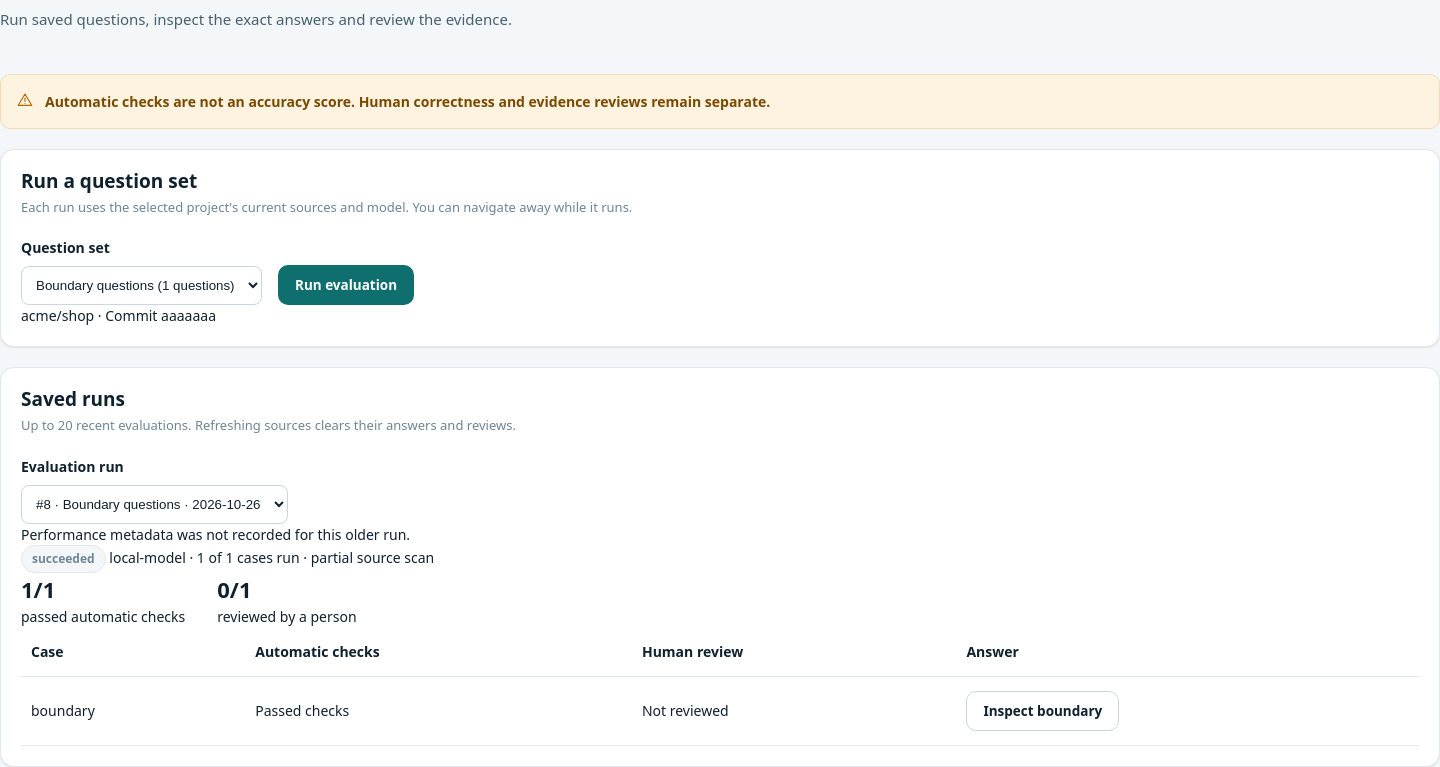
Test case: shows failed review writes without reporting a saved review
The image size is (1440, 767).
Step 1. Click the button "Inspect boundary" → [1043, 711], box [966,690,1119,731]
(page scrolled)
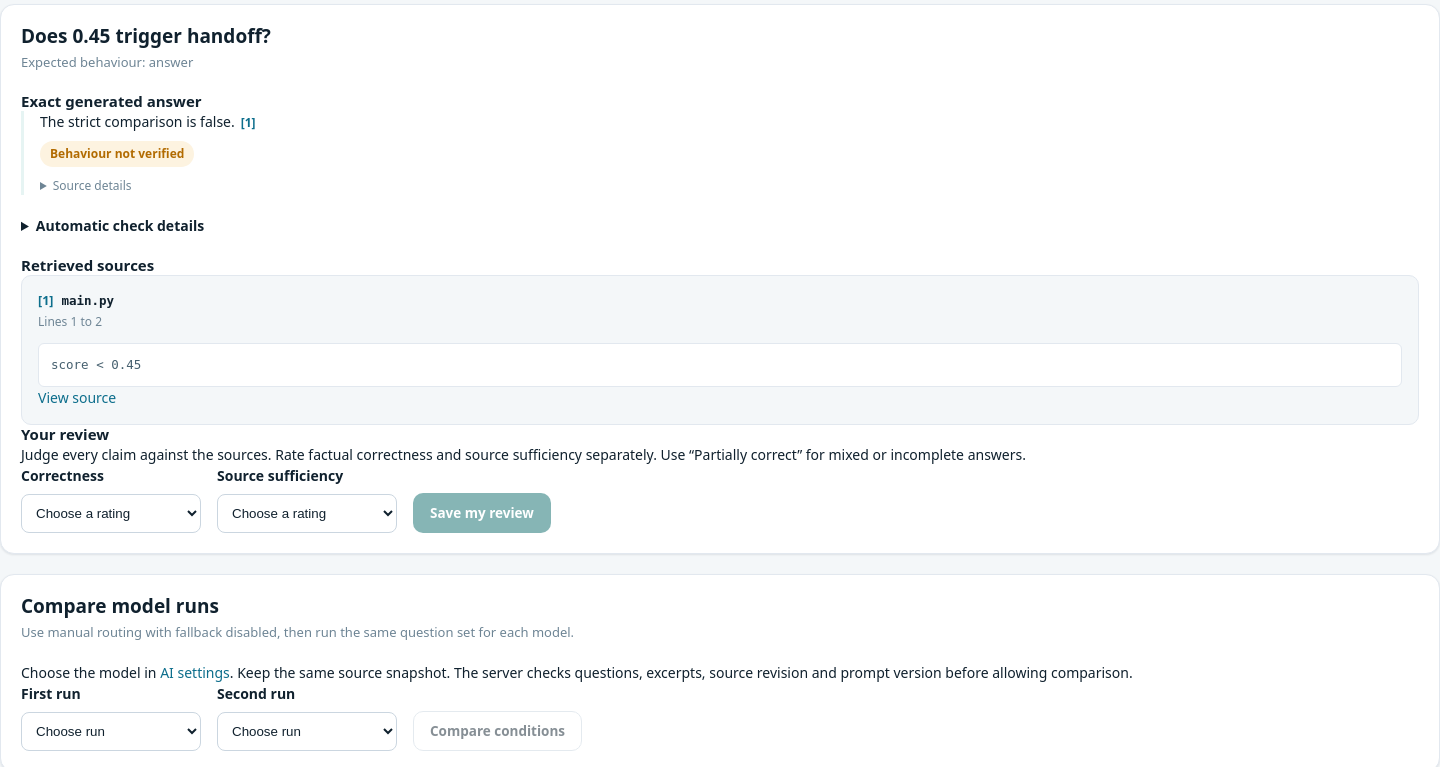
Step 2. Select "Correct" in the dropdown labelled "Correctness" → [111, 514], box [21,494,201,533]
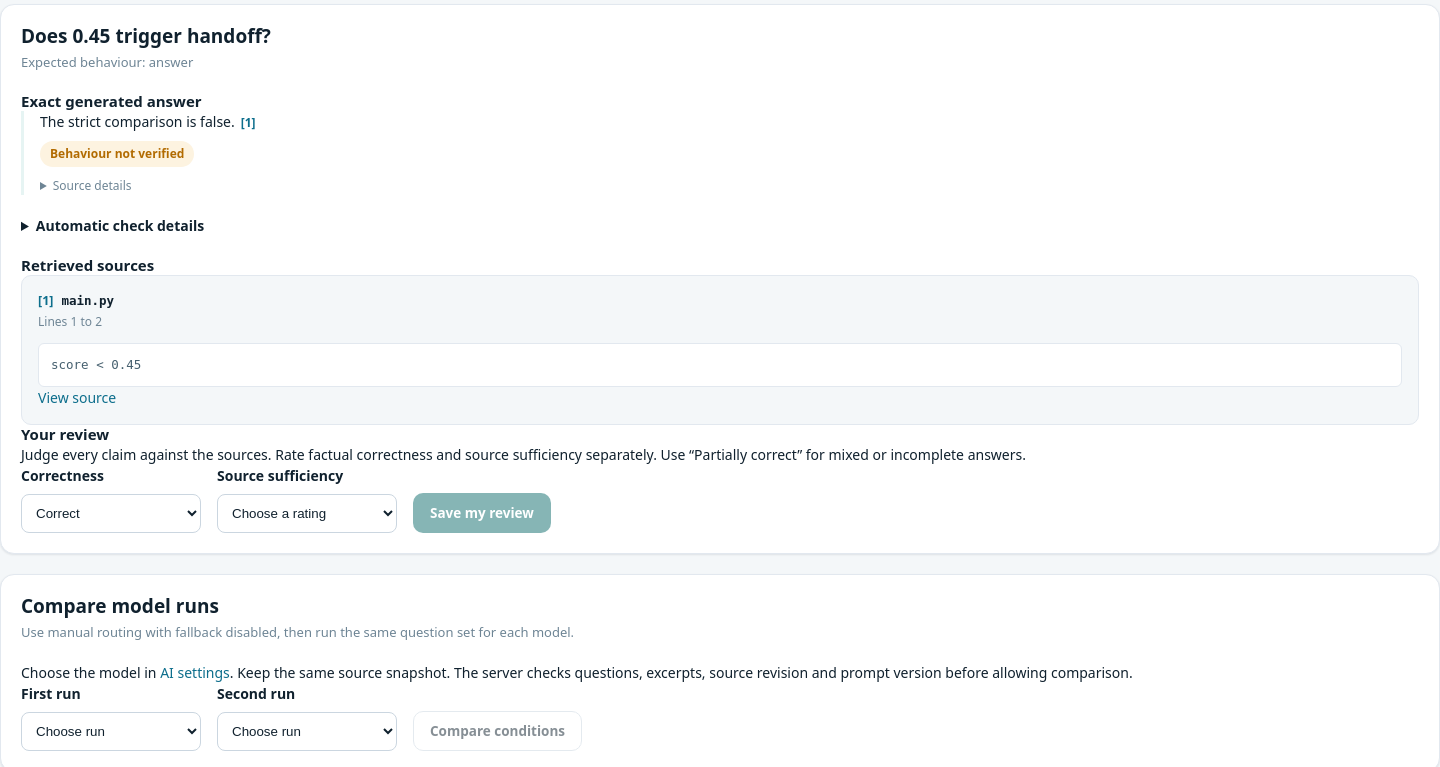
Step 3. Select "Sufficient" in the dropdown labelled "Source sufficiency" → [307, 514], box [217,494,397,533]
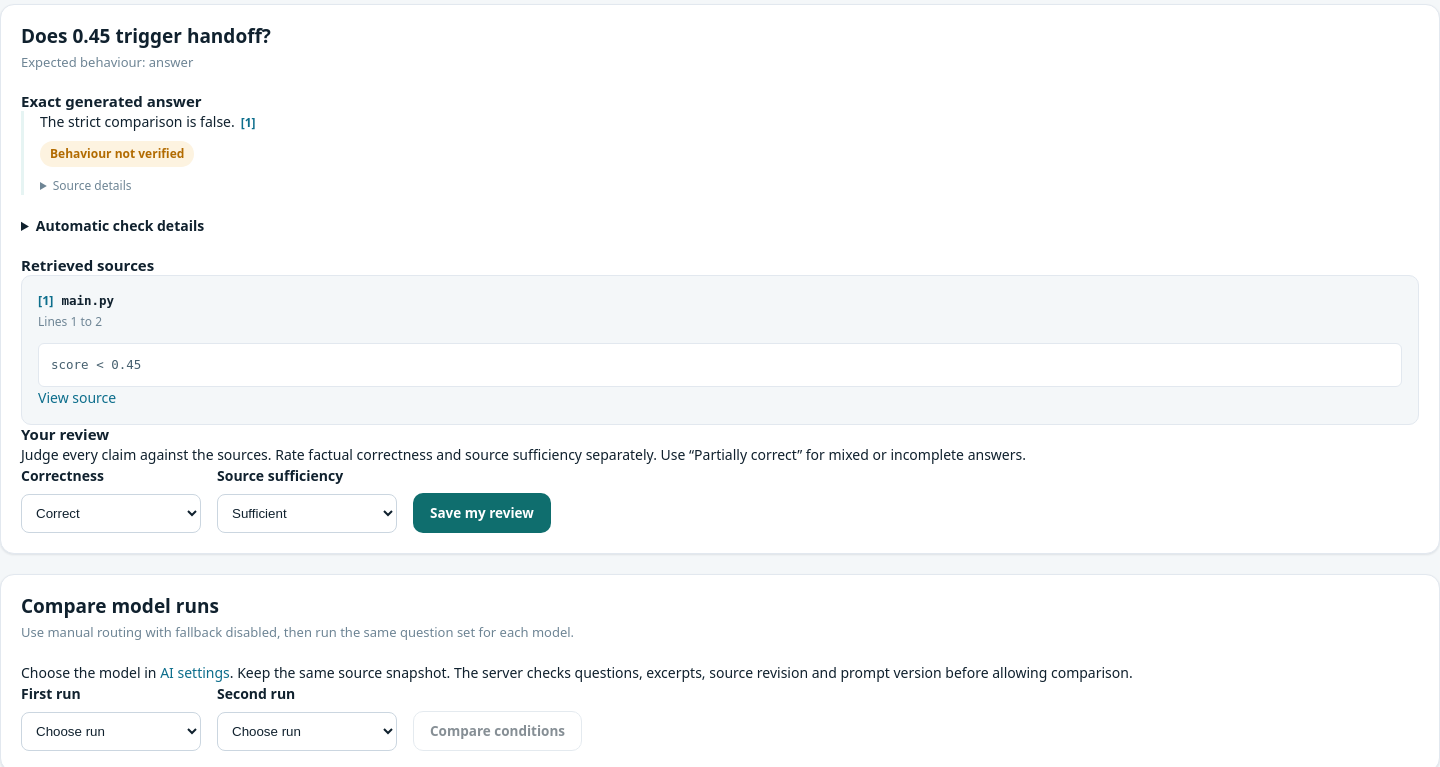
Step 4. Click the button "Save my review" → [482, 513], box [413,493,551,533]
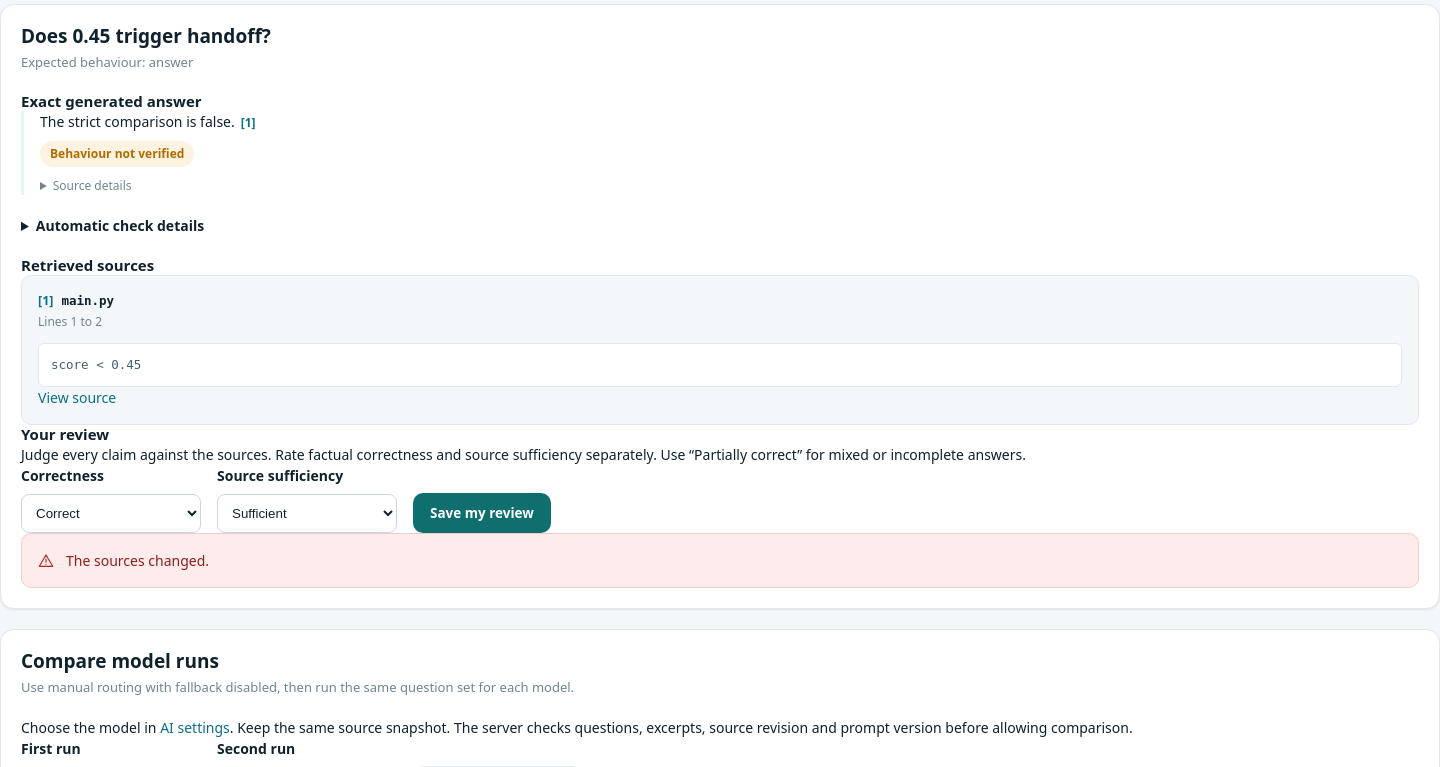
Expected: the text "The sources changed." is shown, [66,551,209,570]
